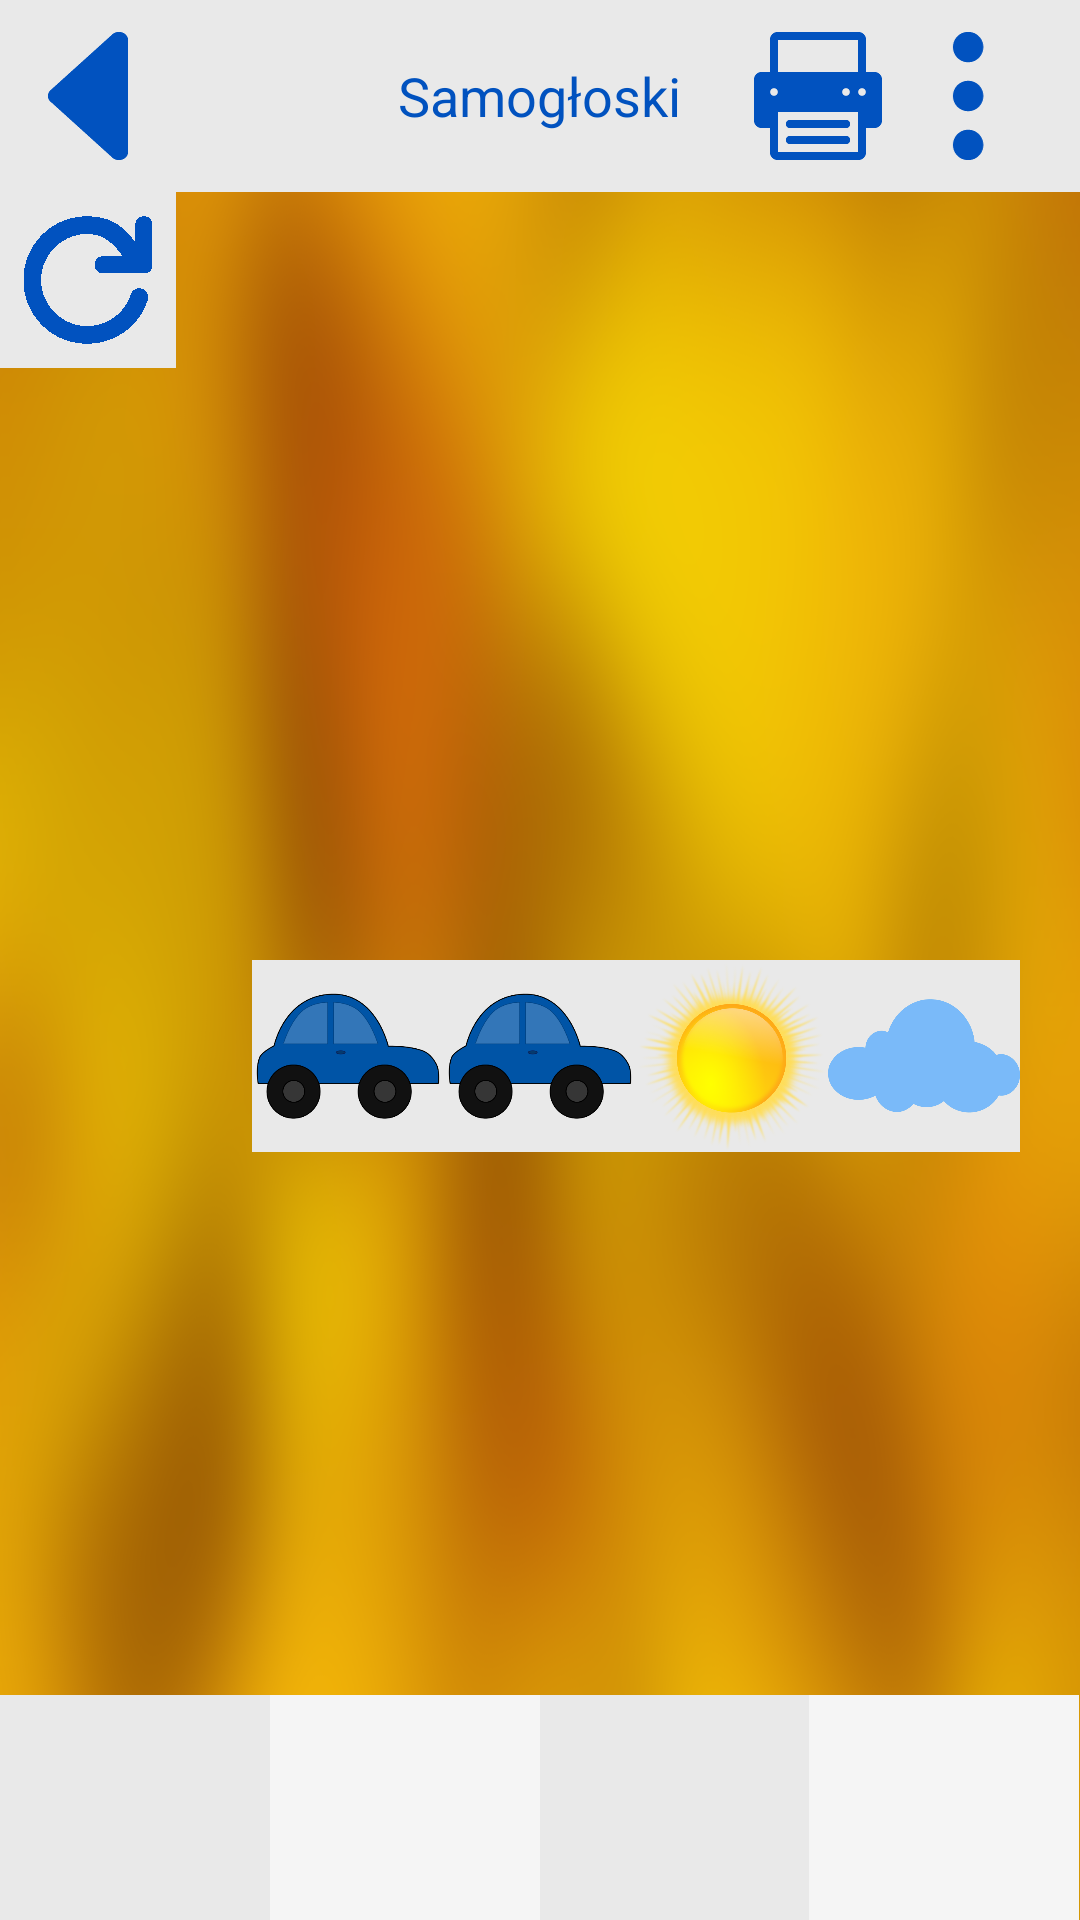

Screen size 1080 × 1920. Icon name, then its center in pixels as [x,y]:
car: [348,1056], [540,1056]
cloud: [924,1056]
Przycisk powrotu: [88,96]
Przycisk wydruku: [818,96]
refresh: [88,280]
sun: [730,1059]
